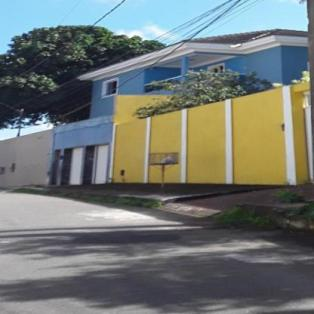Poste: (294, 0, 313, 208)
